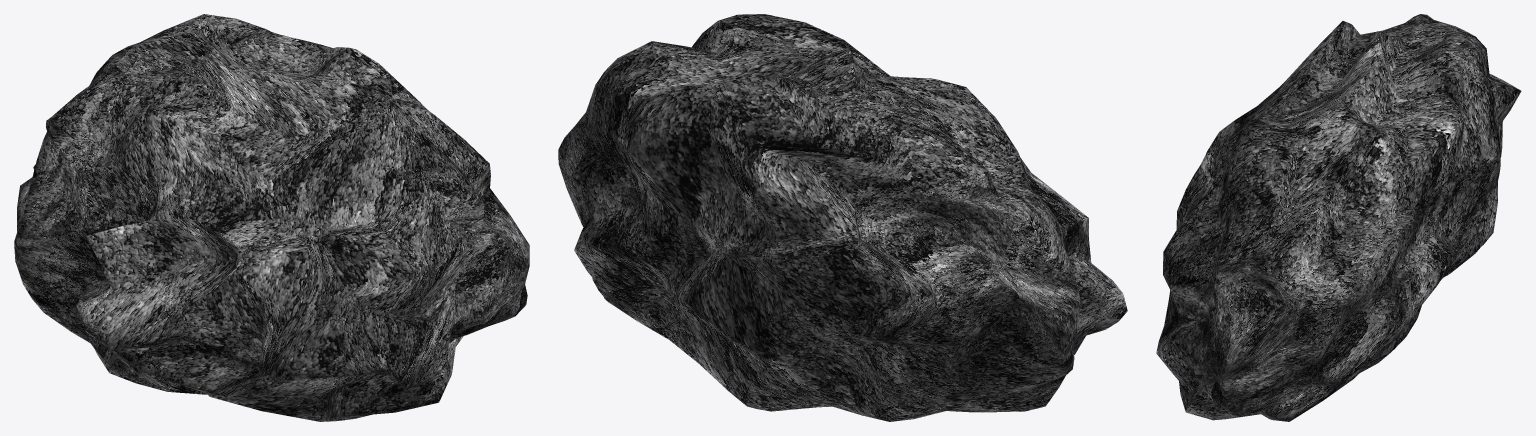
The model's file is Big Rock.FBX.
3 views of the same model, side by side, from view 1: azimuth 30°, elevation 25°; view 2: azimuth 150°, elevation 25°; view 3: azimuth 270°, elevation 25° (orthographic). The views are drawn at different scales.
Parts seen in each view (by area): view 1: GeoSphere012; view 2: GeoSphere012; view 3: GeoSphere012.
Part boxes in pixels (x1=…): GeoSphere012: x1=14, y1=14, x2=529, y2=421; GeoSphere012: x1=558, y1=14, x2=1127, y2=421; GeoSphere012: x1=1156, y1=14, x2=1521, y2=421.
Size of the model in its own units: 308 by 220 by 221.
Materials: 1 (1 with a texture image).
